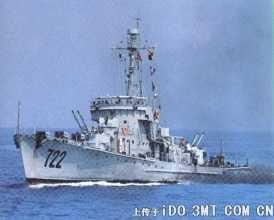warship: (12, 23, 238, 185)
